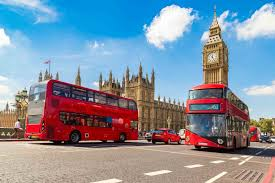bus: (23, 80, 139, 144), (185, 83, 250, 149)
